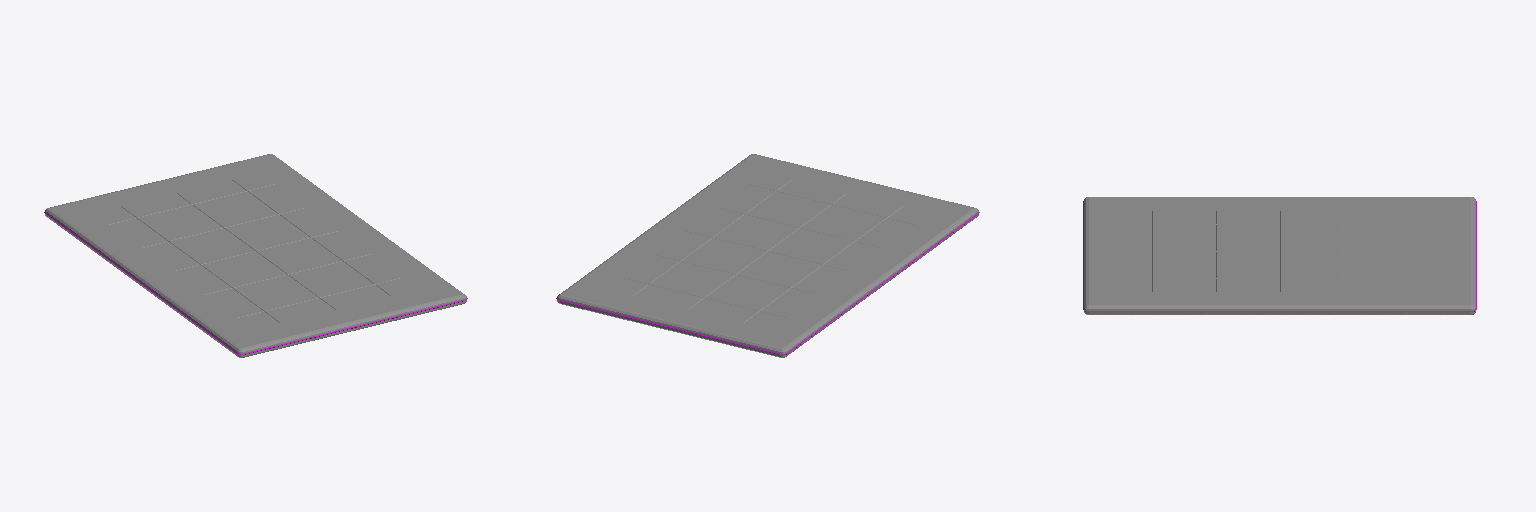
3 views of the same model, side by side, from view 1: azimuth 30°, elevation 25°; view 2: azimuth 150°, elevation 25°; view 3: azimuth 270°, elevation 25° (orthographic).
Visible parts, largest first — view 1: violet.002; view 2: violet.002; view 3: violet.002.
Boxes of the visible parts, x1=… form: violet.002: x1=44, y1=154, x2=467, y2=357; violet.002: x1=556, y1=154, x2=979, y2=357; violet.002: x1=1083, y1=197, x2=1476, y2=314.
Bounding box in the file's own units: 3.66 × 0.146 × 5.42.
3 materials, 1 textured.